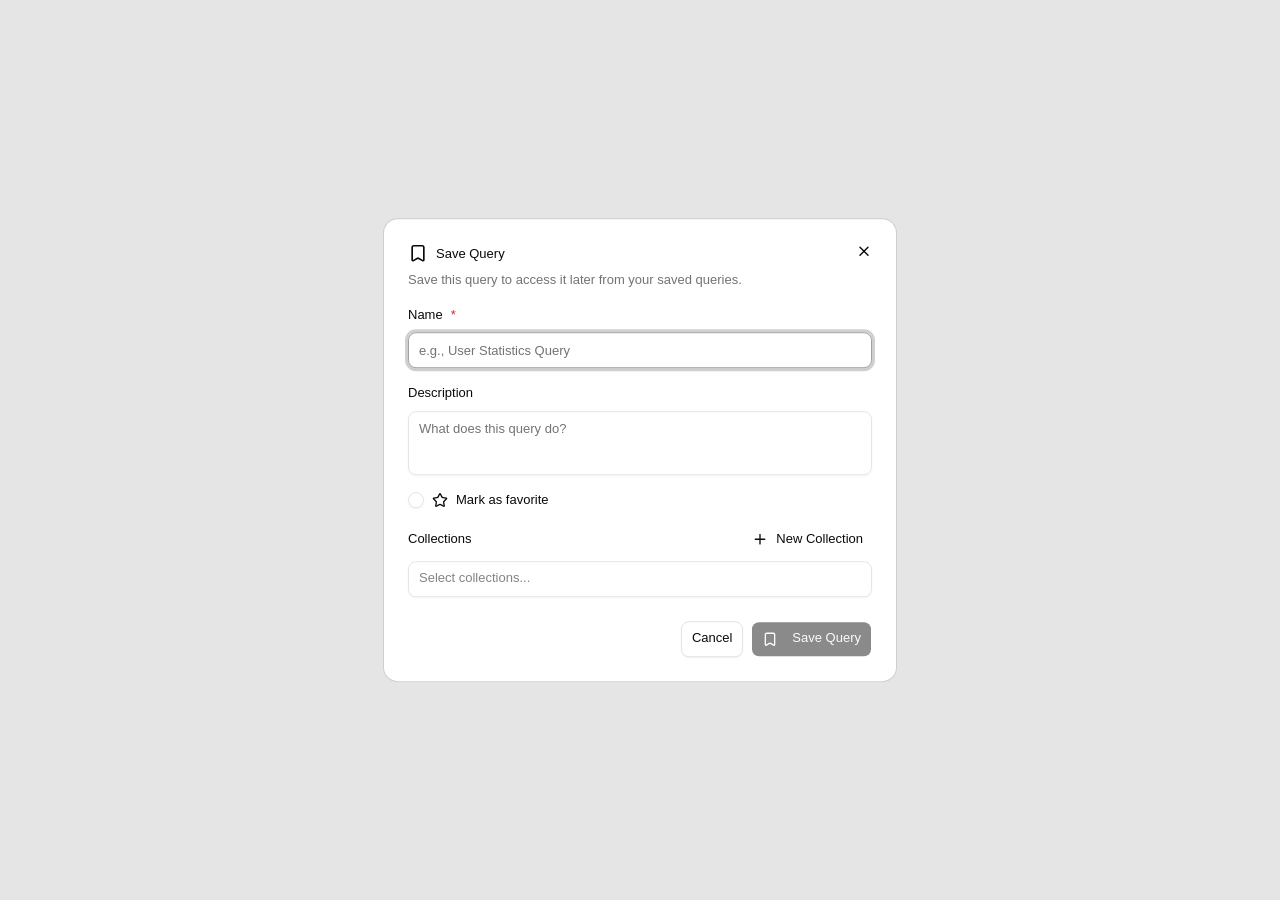
Test: saveQueryDialog › new collection creation › should show new collection form when button clicked
Click the button "New Collection": [808, 539] box [743,526,872,553]
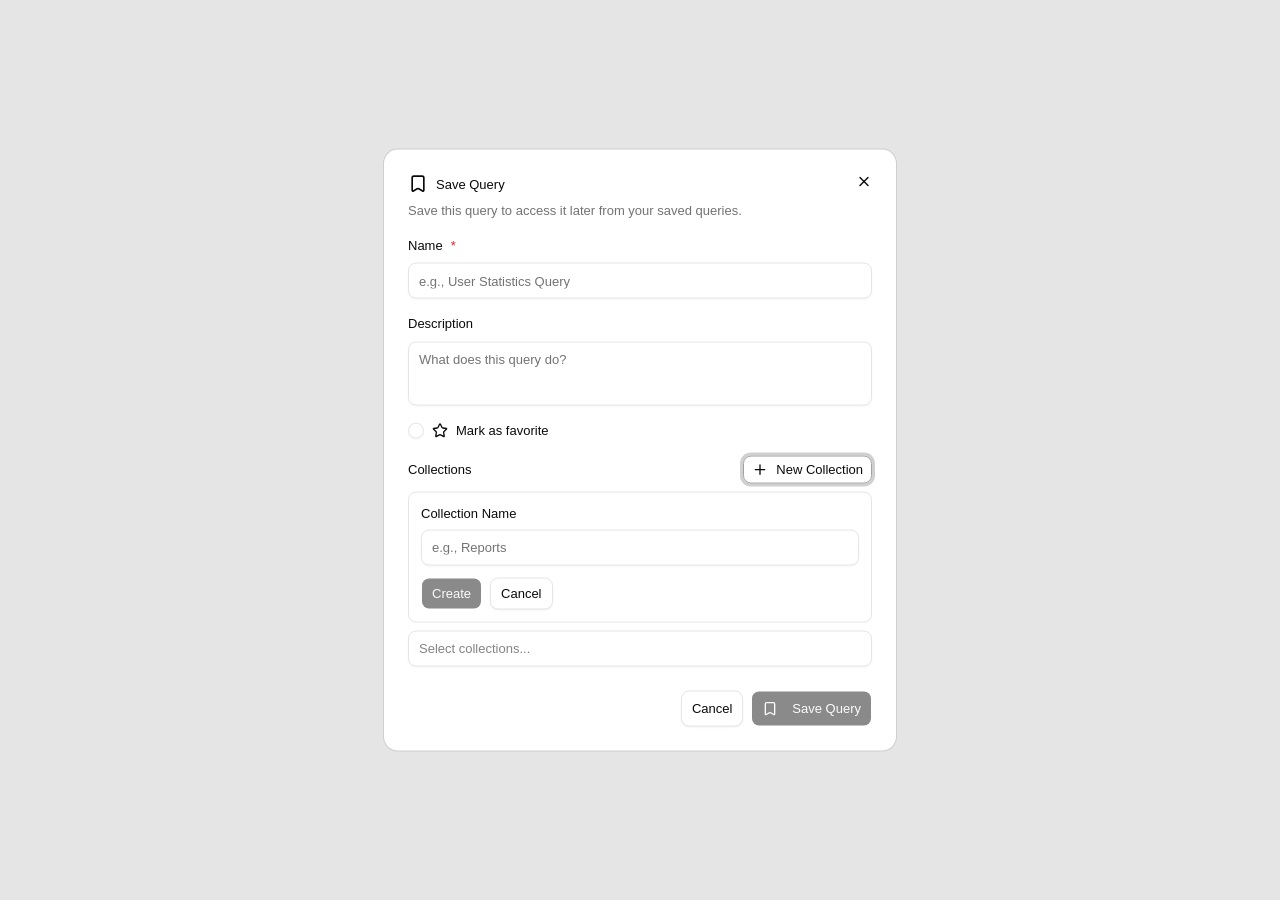
Expected: the field with placeholder "e.g., Reports" is shown, [421,530,859,566]
